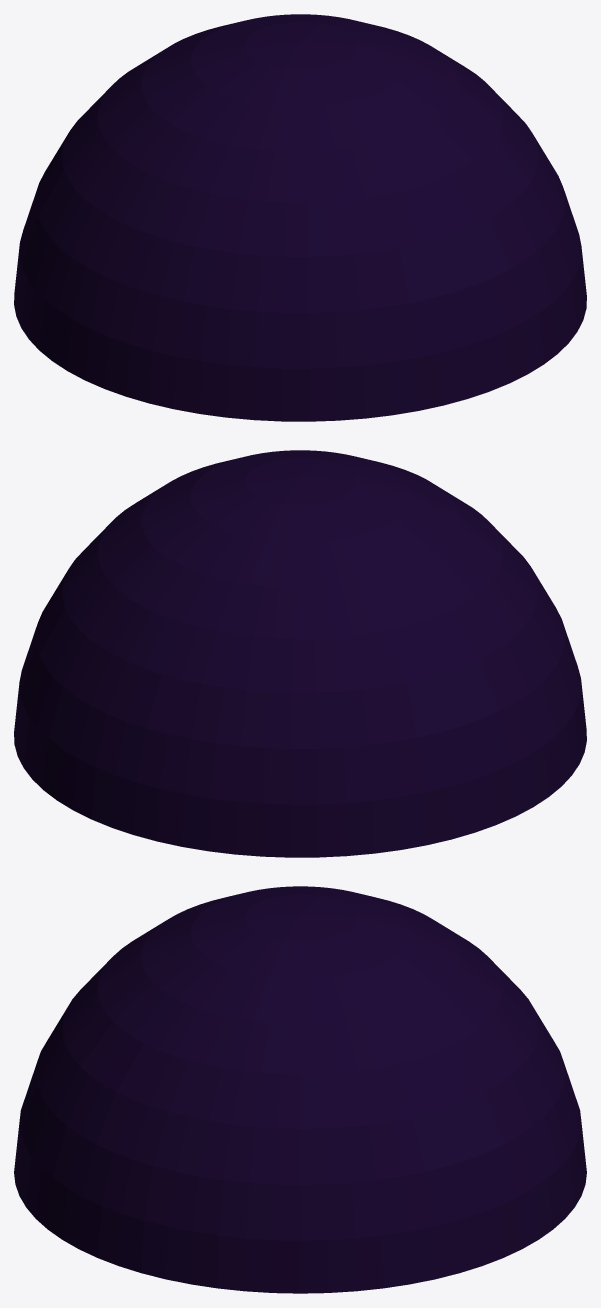
File: catBossDome.fbx
3 renders of one model, top to bottom at view 1: azimuth 30°, elevation 25°; view 2: azimuth 150°, elevation 25°; view 3: azimuth 270°, elevation 25°, orthographic.
Visible parts, largest first — view 1: Sphere.001; view 2: Sphere.001; view 3: Sphere.001.
Part boxes in pixels (x1,y1,x2,y2): Sphere.001: (14,14,586,421); Sphere.001: (14,450,586,857); Sphere.001: (14,886,586,1293).
Bounding box in the file's own units: 66.87 × 33.44 × 66.87.
